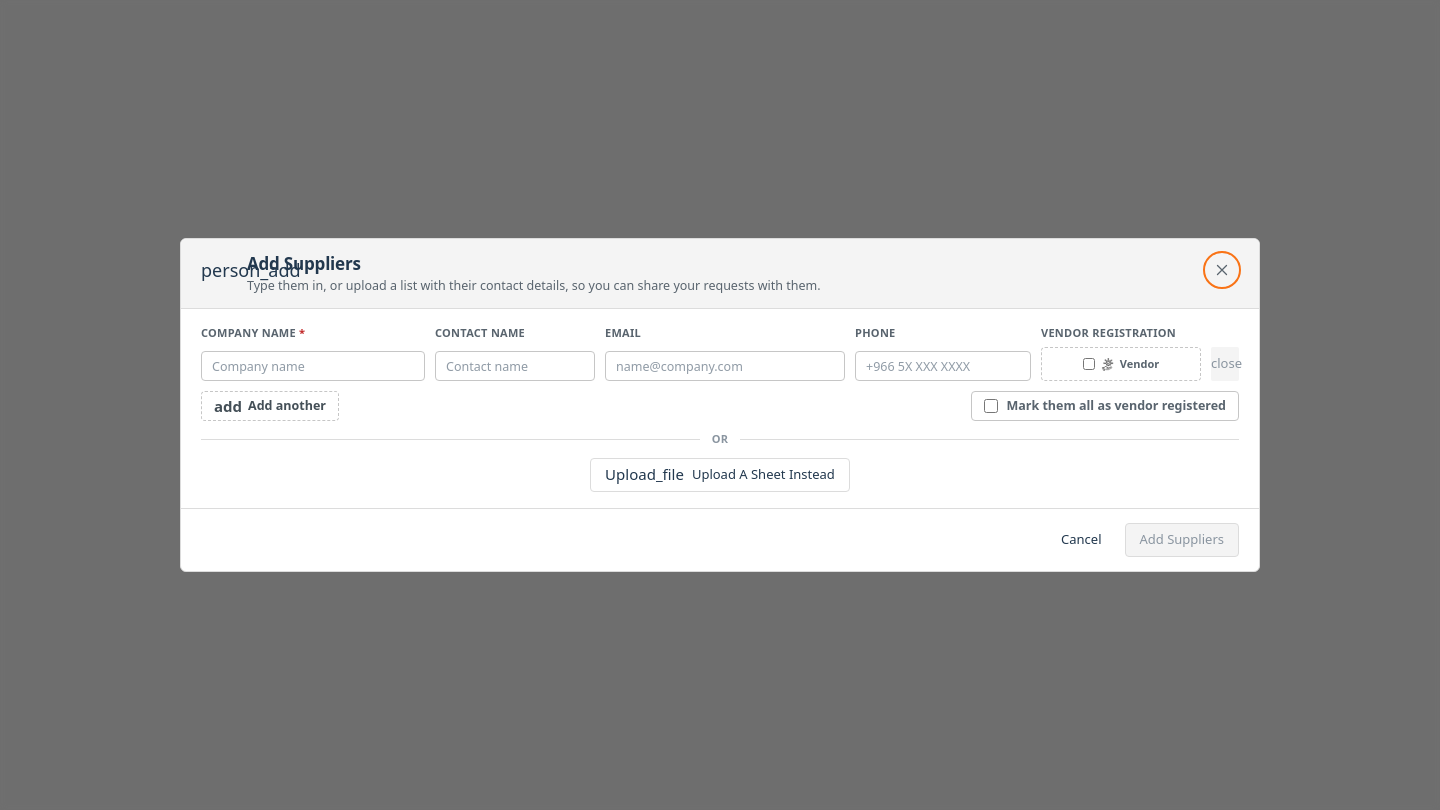
Test case: a refused add names the refusal › Given a 500 the backend did not explain in Arabic, Then it still names the code
Type "Al-Faisal Contracting Est." into the field with placeholder "Company name".
click(313, 366); type("Al-Faisal Contracting Est.")  # box [201,351,425,381]
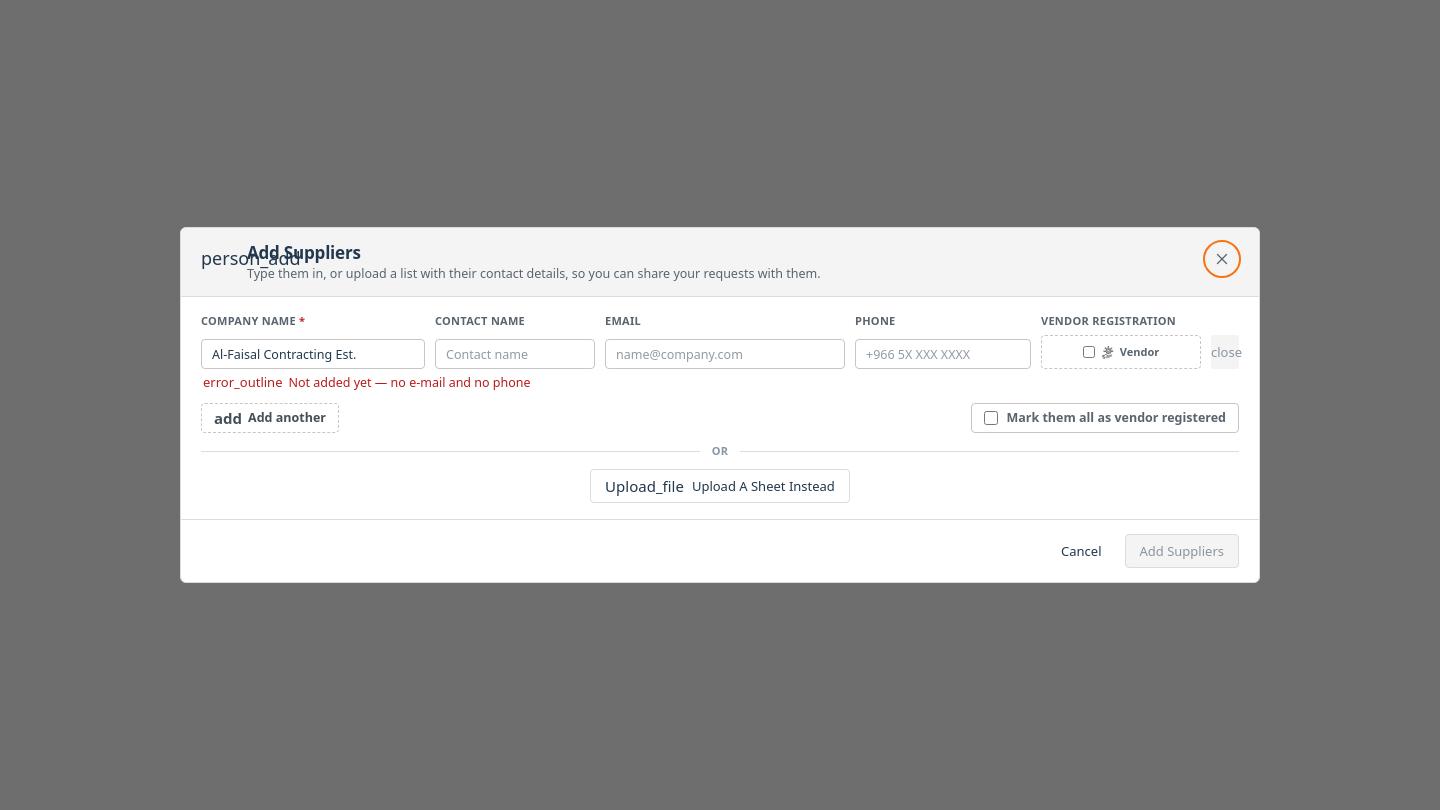
Type "0535869745" into the field with placeholder "+966 5X XXX XXXX".
click(943, 354); type("0535869745")  # box [855,340,1031,370]
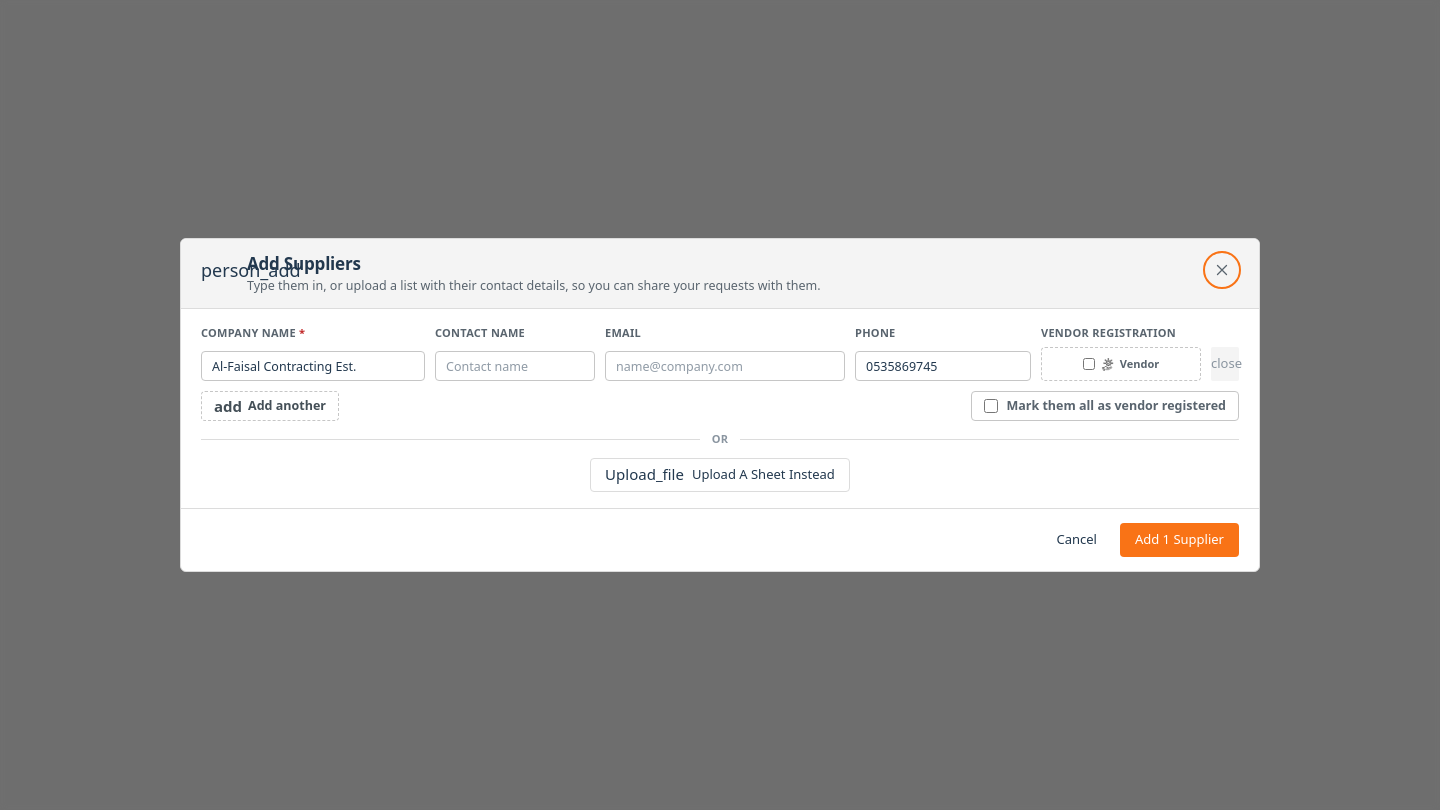
Click the button "Add 1 supplier".
click(1179, 540)  # box [1120,523,1239,557]
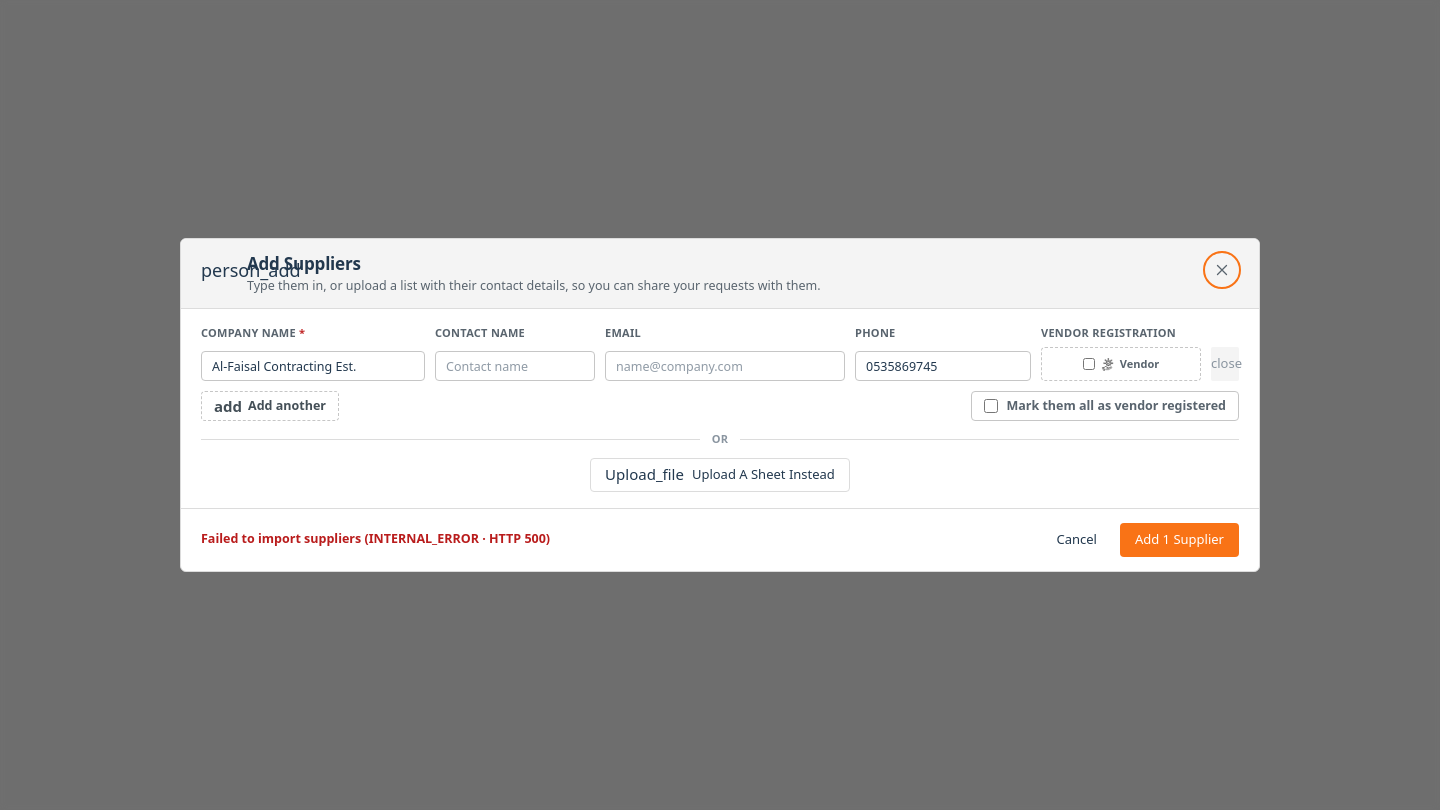
Expected: the text "Failed to import suppliers (INTERNAL_ERROR · HTTP 500)" is shown, [201,530,550,549]
